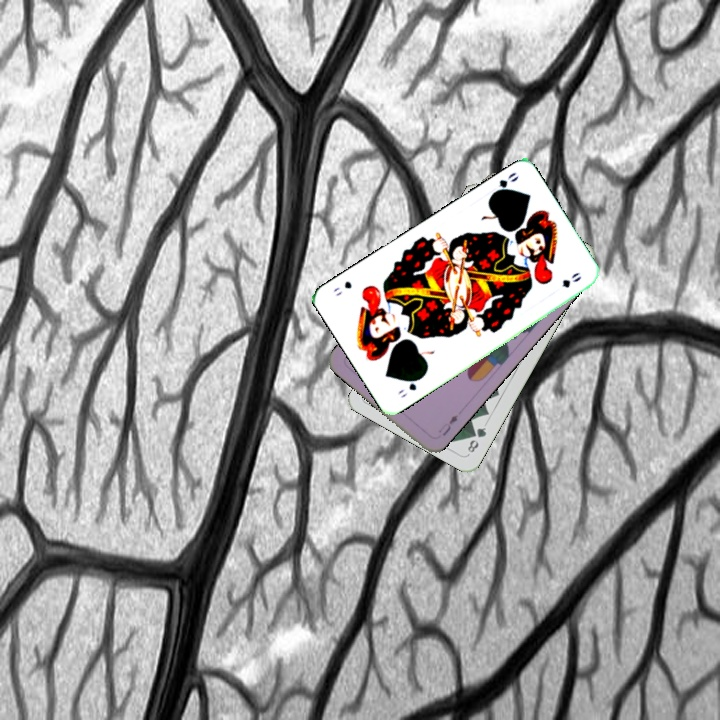EU: (434, 410, 461, 438)
G8: (463, 423, 489, 455)
GO: (487, 168, 521, 199), (393, 372, 426, 400)
